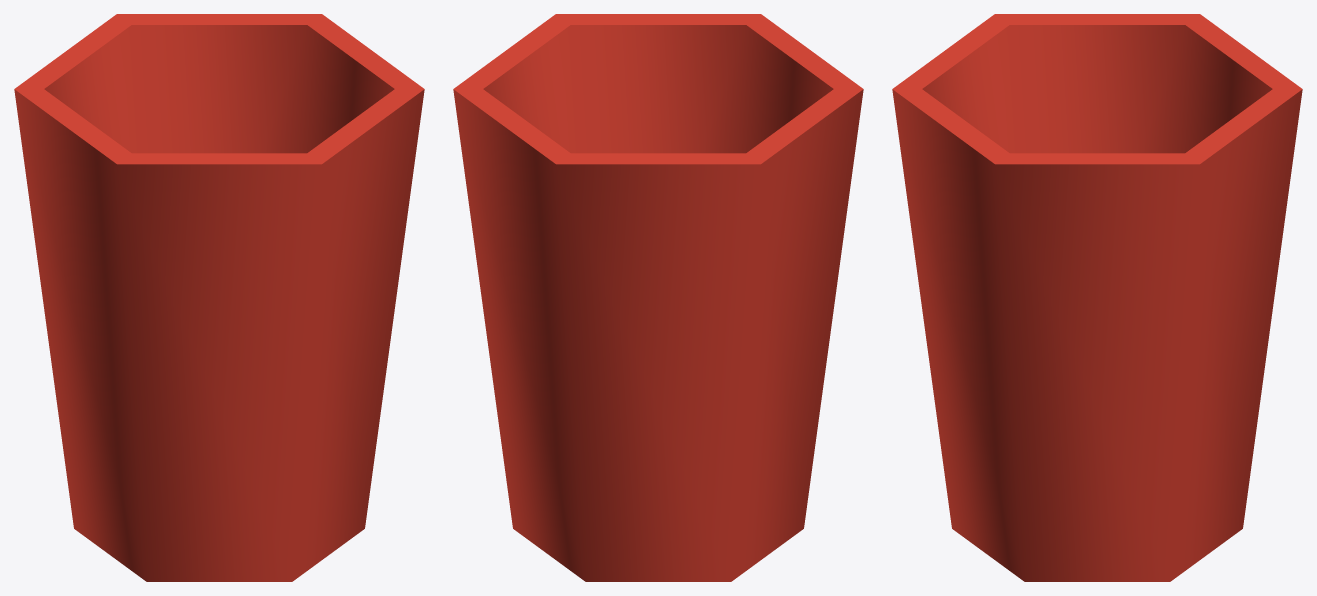
The model's file is Copo.fbx.
3 views of the same model, side by side, from view 1: azimuth 30°, elevation 25°; view 2: azimuth 150°, elevation 25°; view 3: azimuth 270°, elevation 25° (orthographic).
Parts seen in each view (by area): view 1: Copo; view 2: Copo; view 3: Copo.
Part boxes in pixels (x1=…): Copo: x1=14, y1=14, x2=424, y2=581; Copo: x1=453, y1=14, x2=863, y2=581; Copo: x1=892, y1=14, x2=1302, y2=581.
Bounding box in the file's own units: 24.76 × 33.8 × 28.59.
